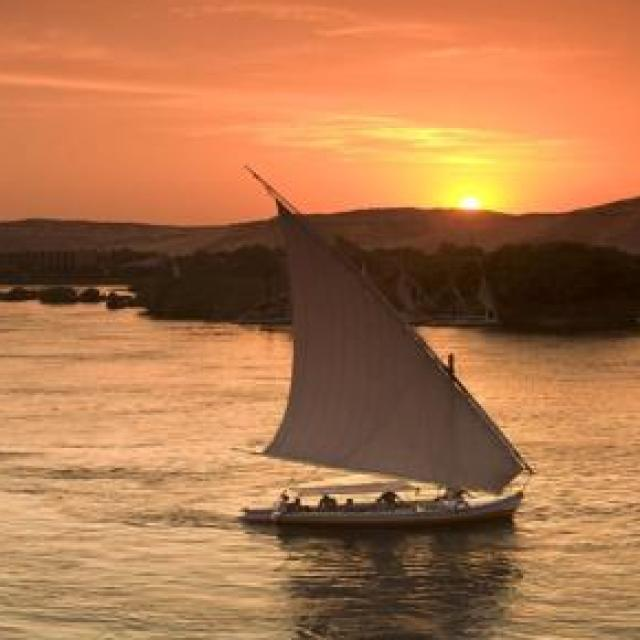sailboat: (224, 162, 525, 522)
